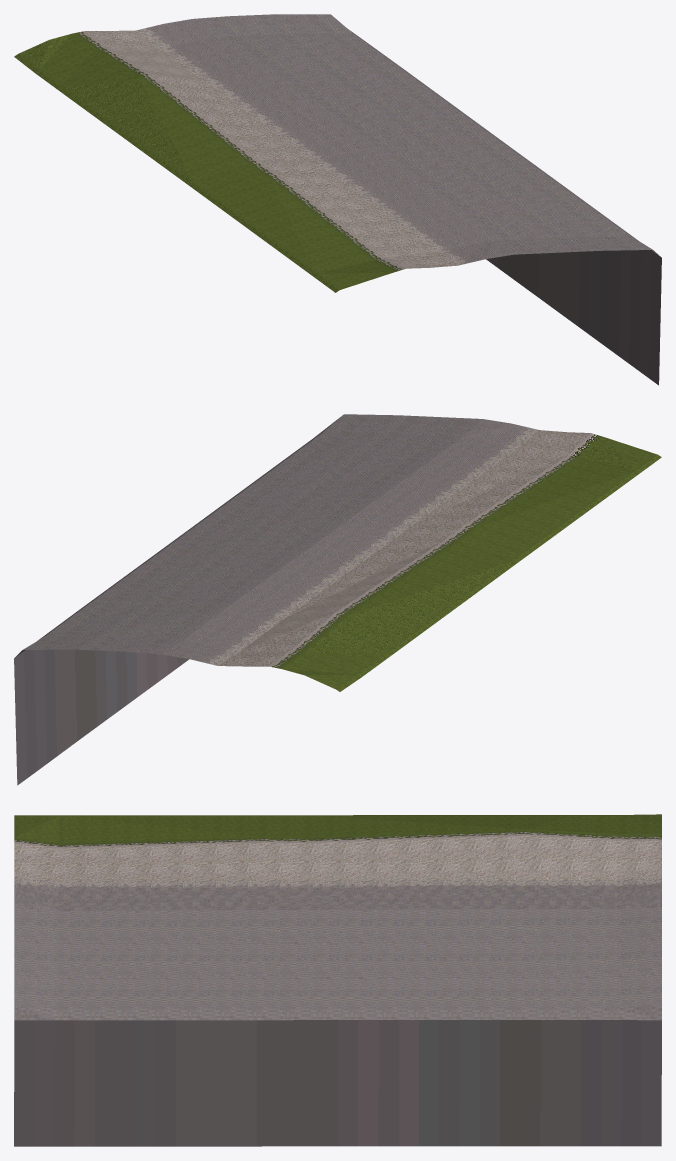
Rendered from lodgroundbit_11sfs.obj.
3 views of the same model, one above another, from view 1: azimuth 30°, elevation 25°; view 2: azimuth 150°, elevation 25°; view 3: azimuth 270°, elevation 25° (orthographic).
Parts seen in each view (by area): view 1: LODgroundbit_11SFS; view 2: LODgroundbit_11SFS; view 3: LODgroundbit_11SFS.
Boxes of the visible parts, <box> form: LODgroundbit_11SFS: <box>14,14,661,385</box>; LODgroundbit_11SFS: <box>14,414,661,785</box>; LODgroundbit_11SFS: <box>14,814,661,1146</box>.
Bounding box in the file's own units: 169 × 91.87 × 288.
5 materials, 5 textured.
